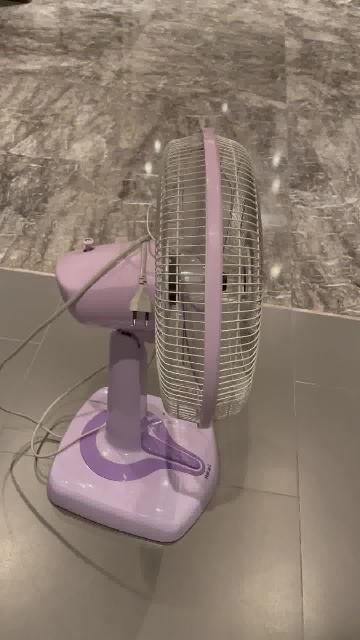Fan: (48, 129, 261, 546)
